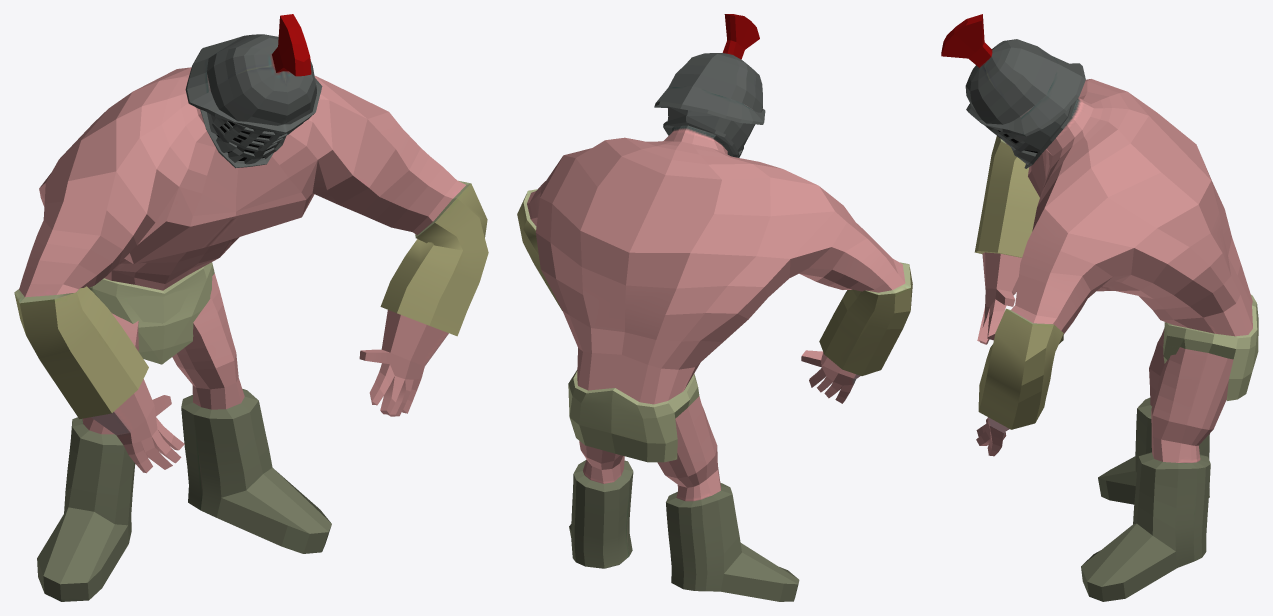
File: GladiatorCelebracion_000500.obj
The picture shows the model from 3 angles, left to right: view 1: azimuth 30°, elevation 25°; view 2: azimuth 150°, elevation 25°; view 3: azimuth 270°, elevation 25°; orthographic projection. The views are drawn at different scales.
Visible parts, largest first — view 1: Gadiador_Gladiador_H; view 2: Gadiador_Gladiador_H; view 3: Gadiador_Gladiador_H.
Part boxes in pixels (box(x1,y1,x2,y2)): Gadiador_Gladiador_H: box(14, 14, 488, 601); Gadiador_Gladiador_H: box(517, 14, 912, 601); Gadiador_Gladiador_H: box(941, 14, 1258, 601).
Size of the model in its own units: 5.24 by 6.51 by 3.47.
Materials: 1 (1 with a texture image).
